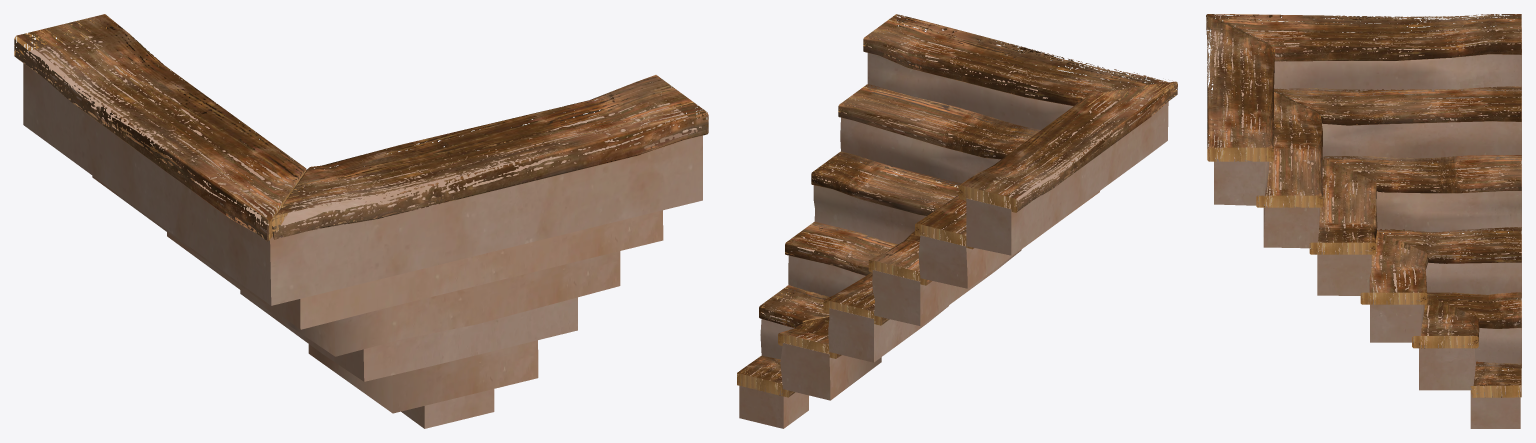
3 views of the same model, side by side, from view 1: azimuth 30°, elevation 25°; view 2: azimuth 150°, elevation 25°; view 3: azimuth 270°, elevation 25° (orthographic). The views are drawn at different scales.
Parts seen in each view (by area): view 1: SM_BB_T4_Stairs_InnerCorner_LOD0; view 2: SM_BB_T4_Stairs_InnerCorner_LOD0; view 3: SM_BB_T4_Stairs_InnerCorner_LOD0.
Boxes of the visible parts, <box> form: SM_BB_T4_Stairs_InnerCorner_LOD0: <box>14,14,708,428</box>; SM_BB_T4_Stairs_InnerCorner_LOD0: <box>737,14,1177,428</box>; SM_BB_T4_Stairs_InnerCorner_LOD0: <box>1206,14,1521,428</box>.
Bounding box in the file's own units: 1.55 × 1.52 × 1.54.
Materials: 2 (2 with a texture image).
